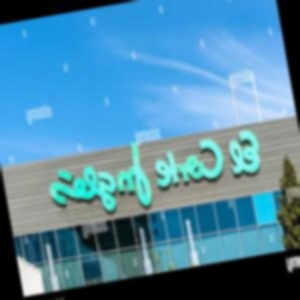corte_ingles: (246, 62, 288, 186)
